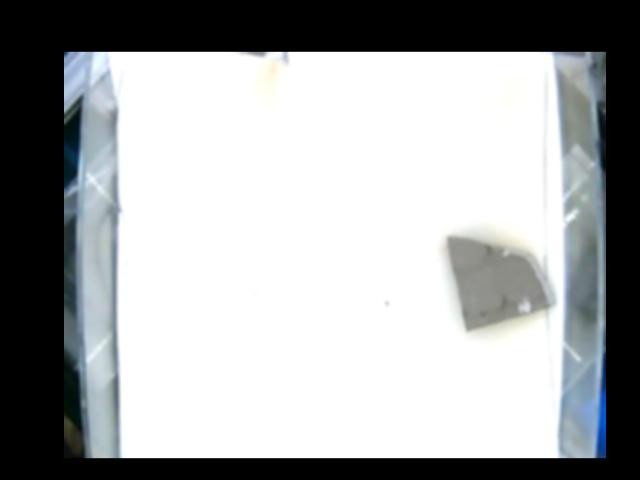China: (449, 227, 554, 331)
